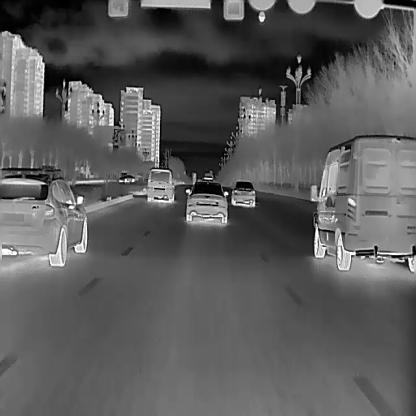car: (309, 132, 415, 272), (0, 169, 88, 266), (184, 181, 229, 223), (146, 166, 174, 202), (230, 180, 256, 206), (118, 173, 135, 183)
